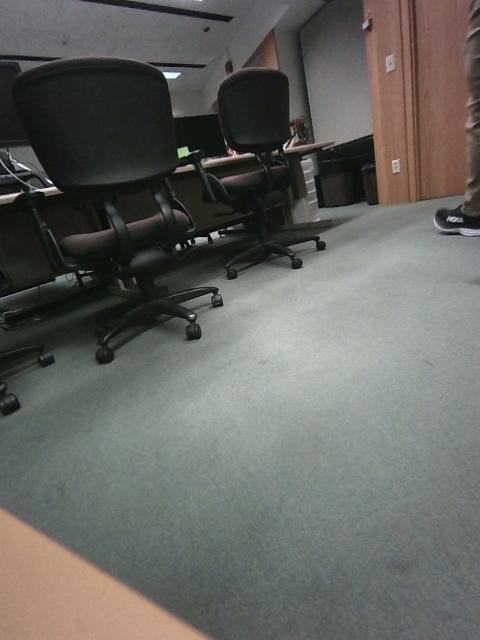block: (165, 304, 190, 326)
